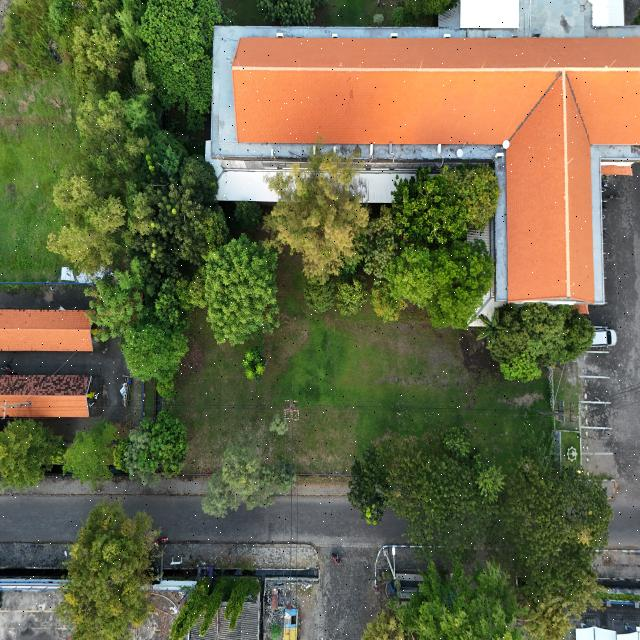Tree: (200, 236, 282, 346), (117, 413, 189, 488), (120, 315, 190, 379), (388, 241, 441, 313), (64, 421, 122, 486), (476, 460, 508, 502), (240, 351, 270, 383)
